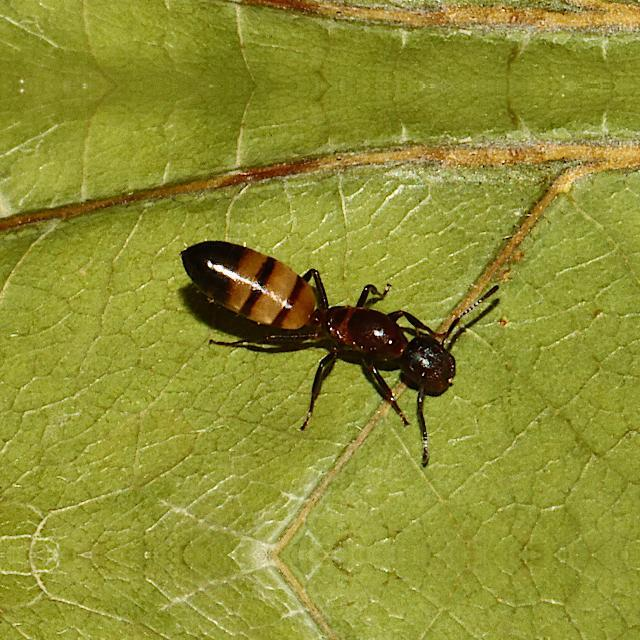Colobopsis: (162, 230, 482, 418)
